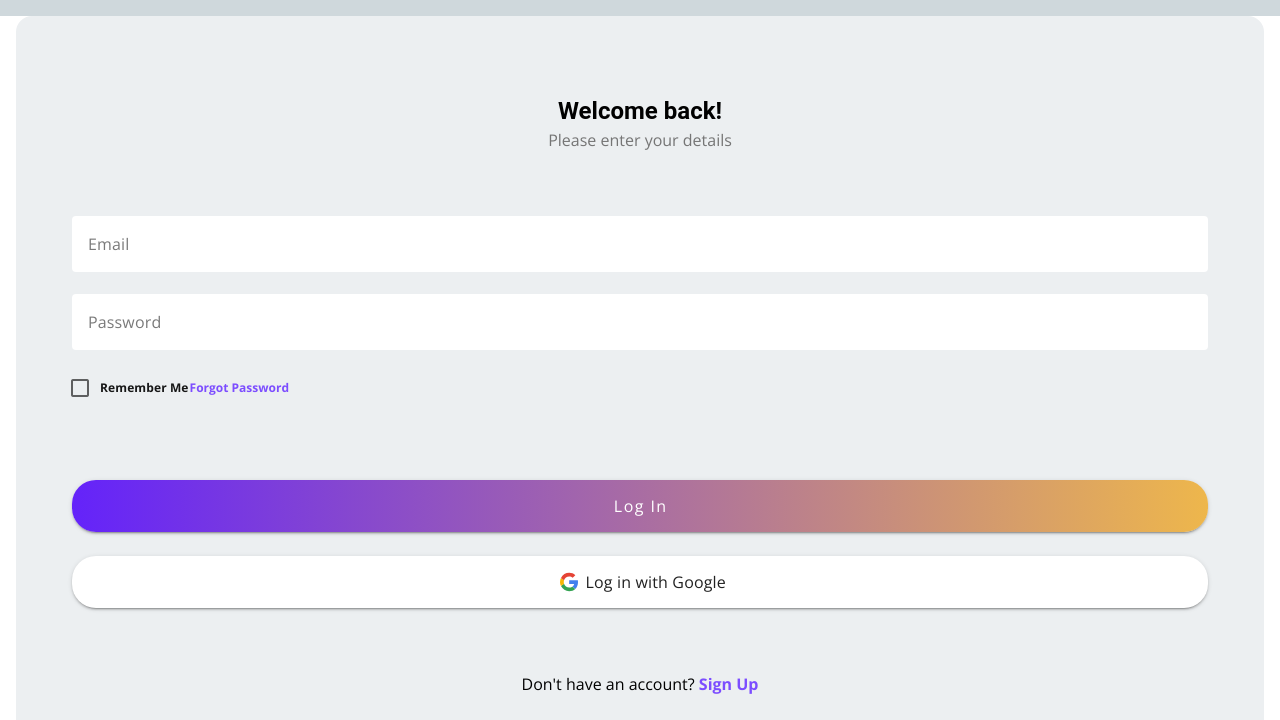
Test: LoginForm › Functionality › Email Input › should show error when input empty
Focus the field labelled "Email" at [109, 244], box [88, 233, 129, 255]
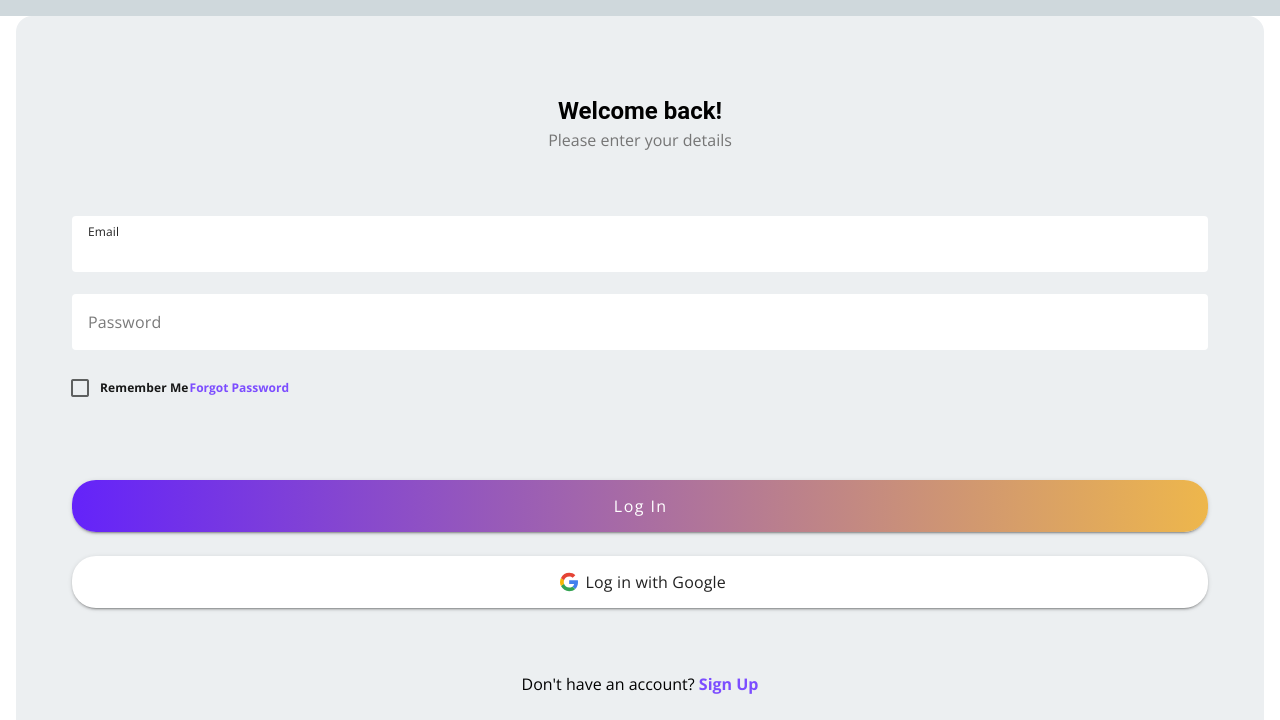
Leave the field labelled "Email", box [72, 216, 1208, 272]
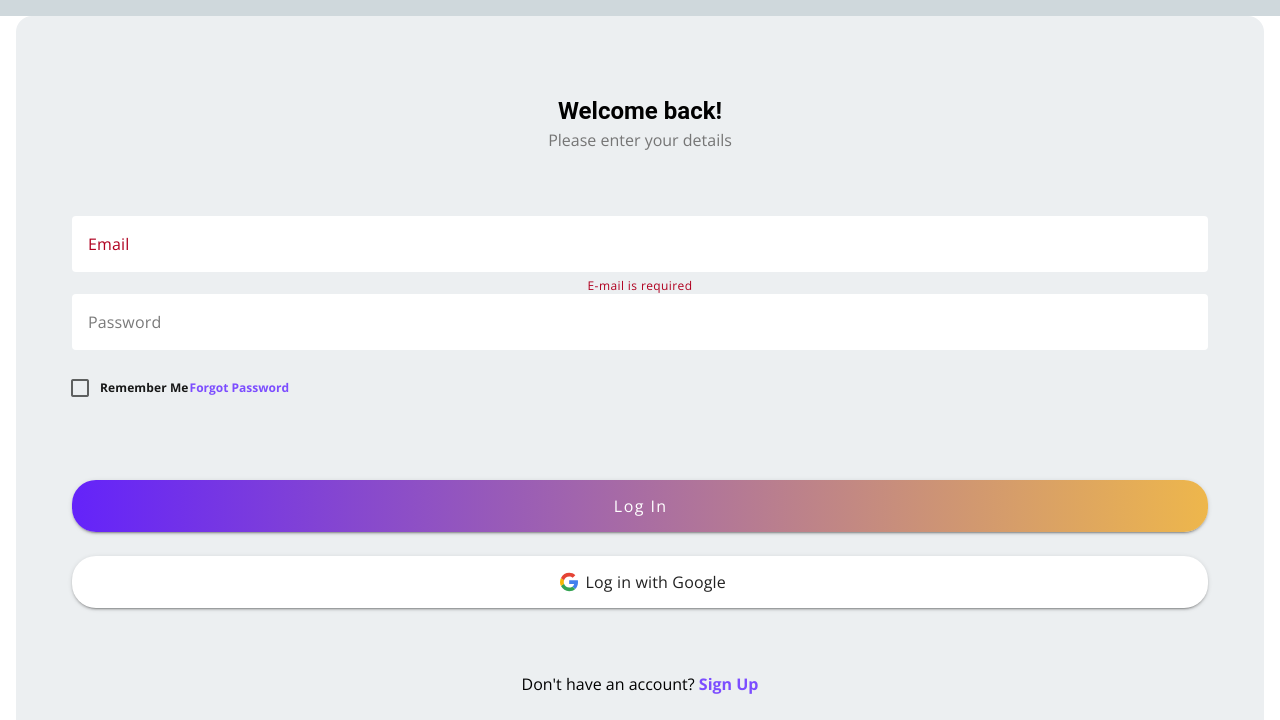
Check: the message with id "email-messages" reads "E-mail is required", box [588, 277, 692, 294]
